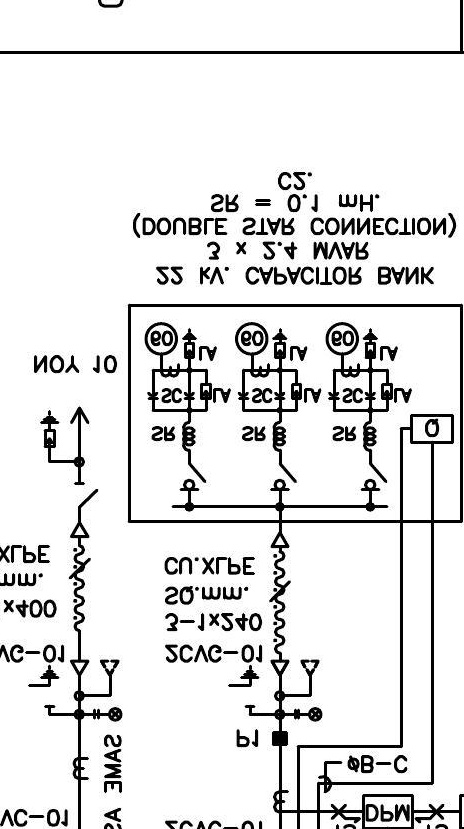22_cap_bank: (127, 303, 464, 524)
22_ds_la_out: (40, 405, 100, 508)
22_gs: (27, 663, 61, 708), (227, 664, 261, 709)
22_ll: (92, 706, 123, 723), (293, 707, 323, 723)
Q: (409, 413, 455, 445)
terminator_single: (269, 531, 290, 549), (70, 521, 90, 539)
terminator_w_future: (69, 659, 121, 698), (269, 659, 321, 698)
